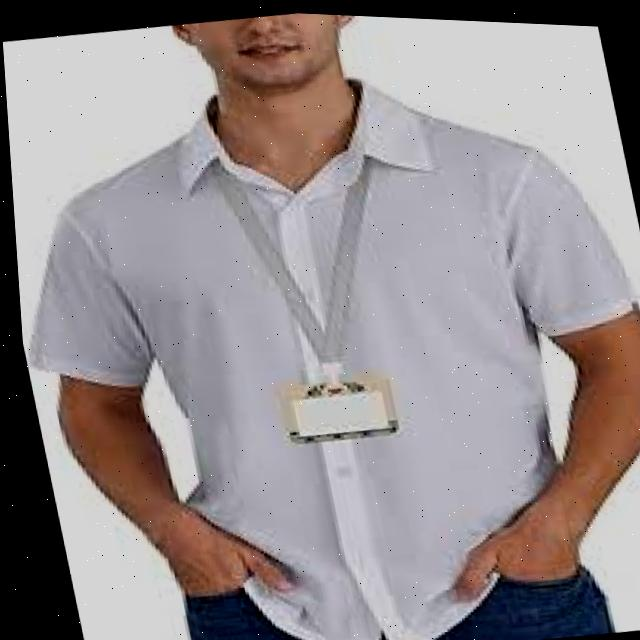id_card: (184, 124, 426, 462)
